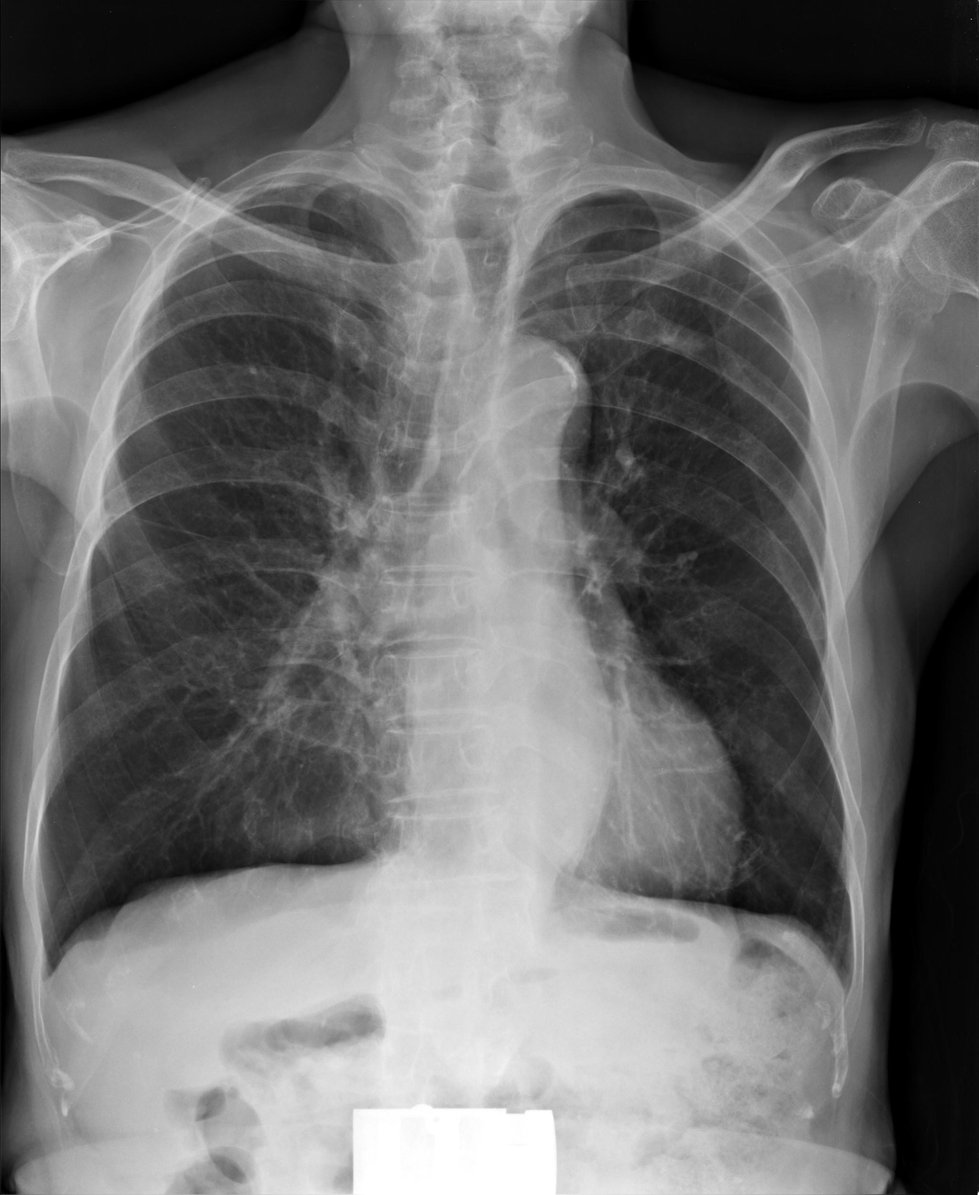Aortic enlargement: (474, 334, 596, 473)
Pleural thickening: (270, 166, 402, 222), (541, 187, 637, 219)
